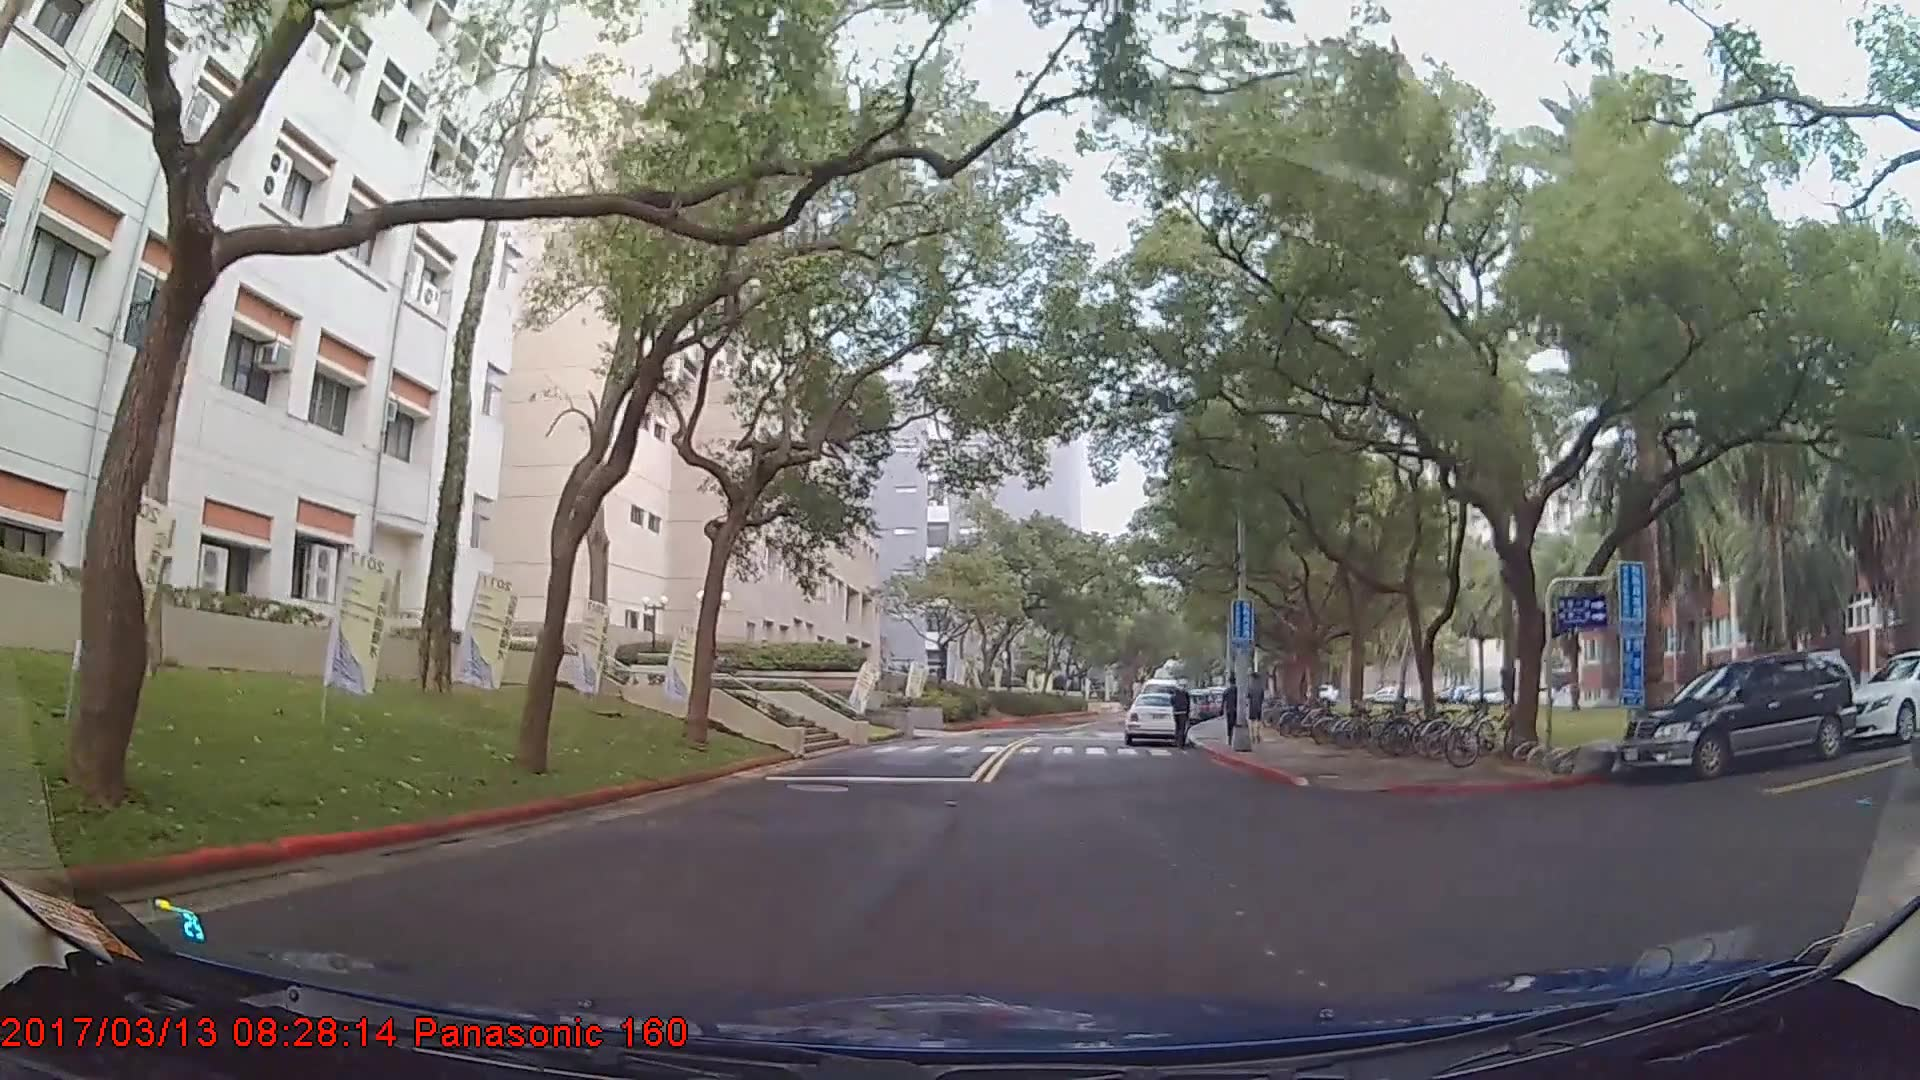pedestrian: (1221, 677, 1247, 748), (1168, 679, 1190, 753)
vehicle: (1617, 648, 1858, 784), (1845, 649, 1920, 745), (1121, 691, 1185, 743)
